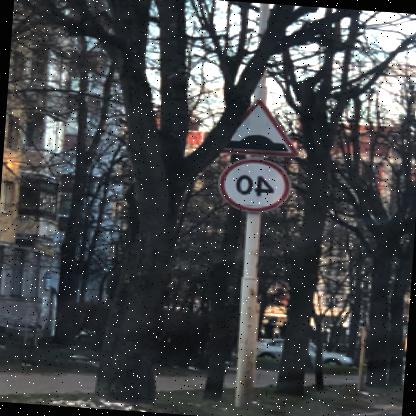speedlimit: (220, 156, 294, 214)
